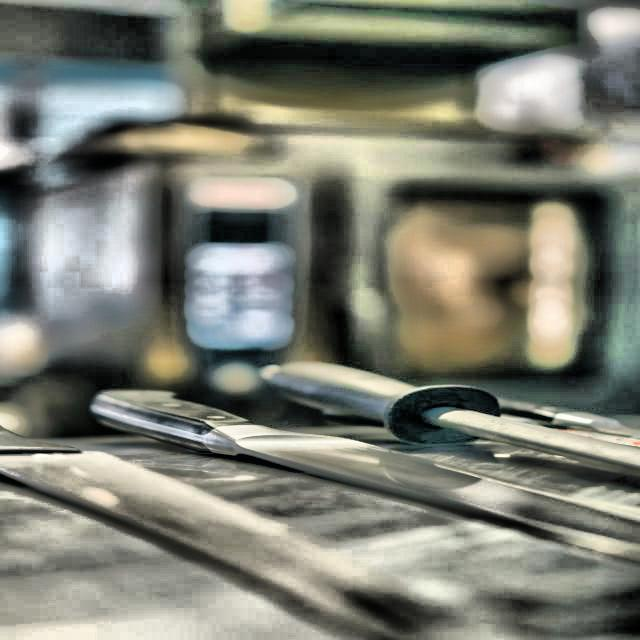knife: (92, 387, 640, 550), (252, 361, 640, 482)
